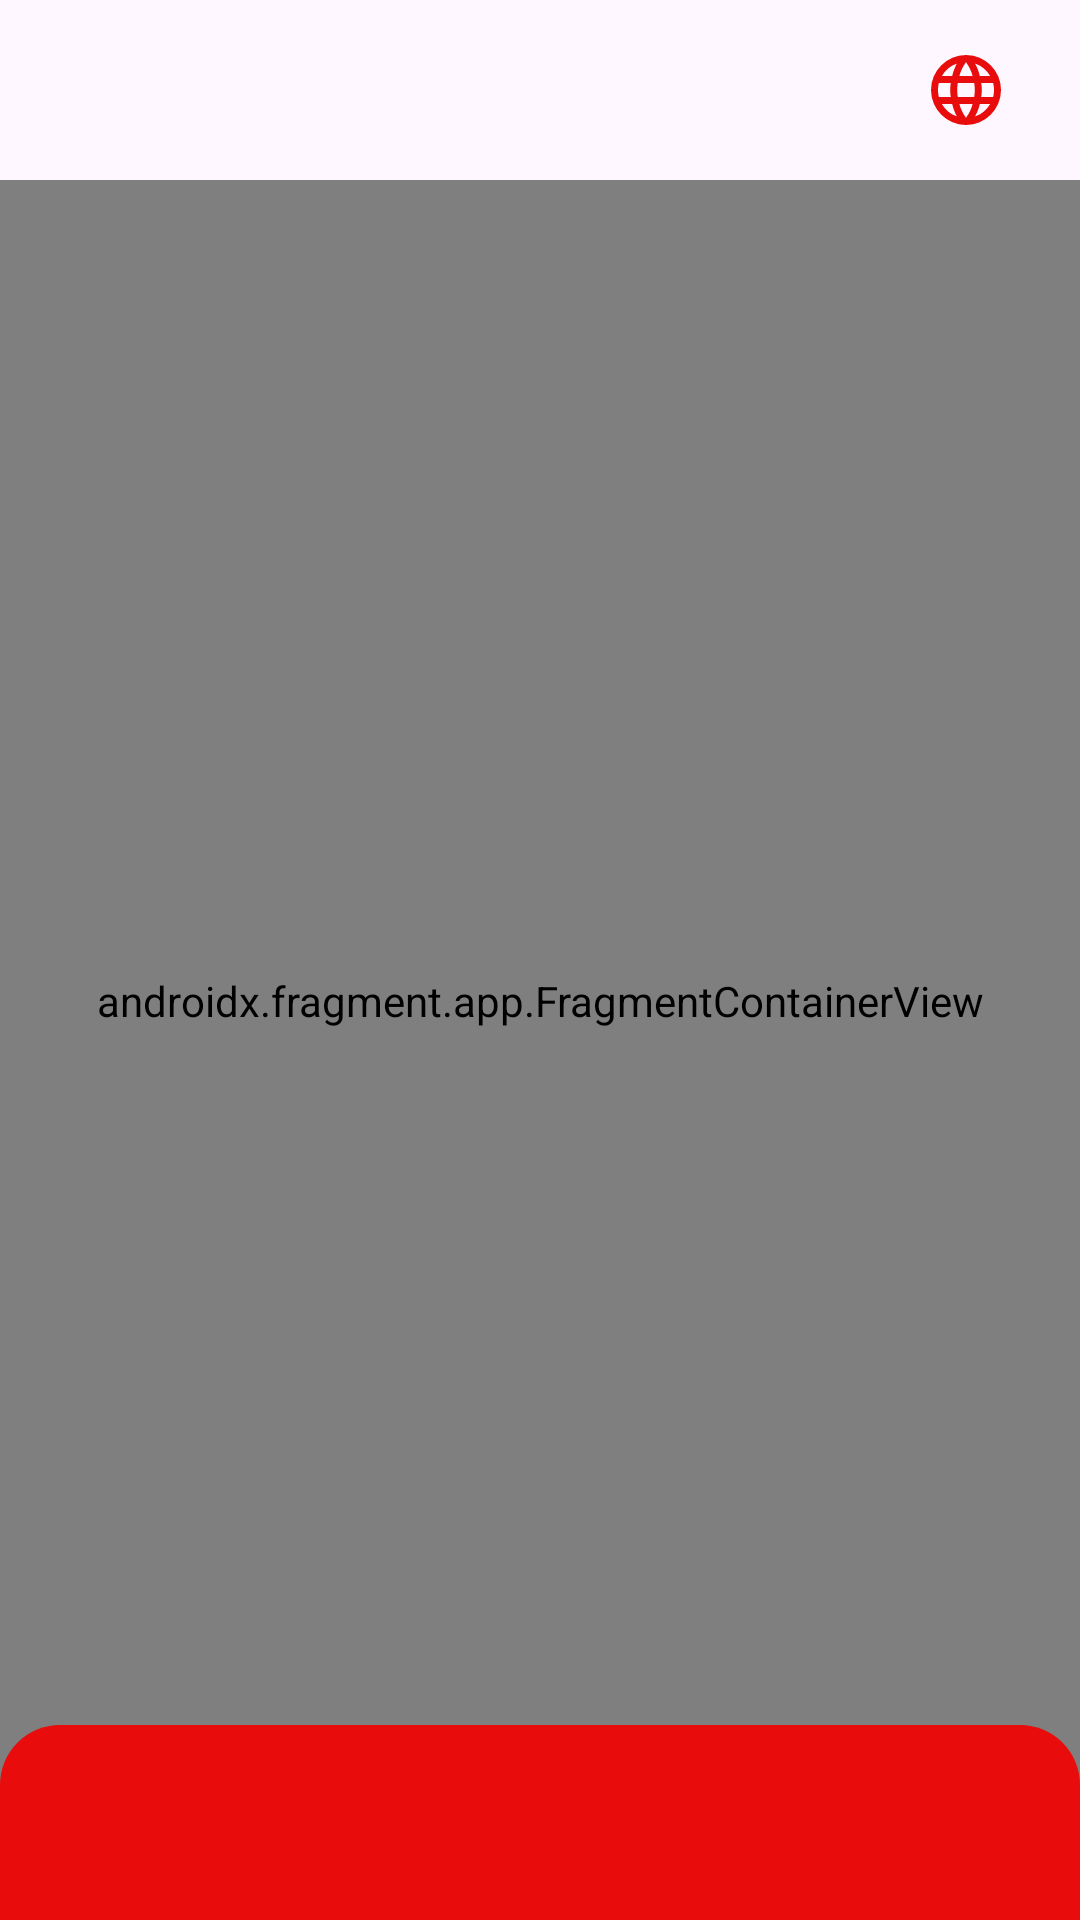

Point at icon controls on the screen. Image size 1080w x 1920h, points as point (x, y).
language: point (966, 90)
